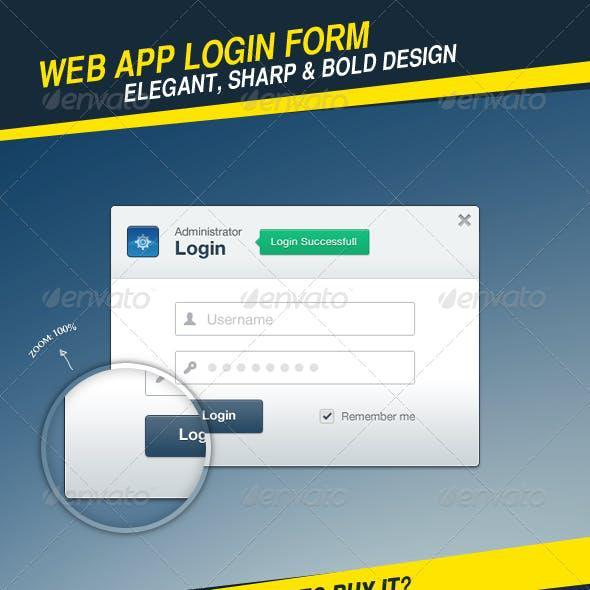checkbox: (320, 409, 336, 425)
input: (176, 302, 416, 336), (176, 352, 417, 385)
label: (269, 236, 361, 249), (174, 239, 228, 259), (341, 412, 416, 424), (177, 227, 243, 240)
